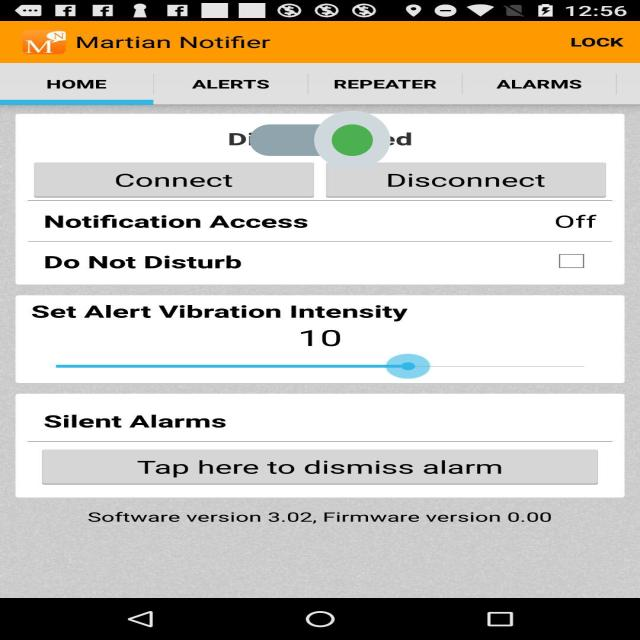social proof: (250, 86, 390, 194)
